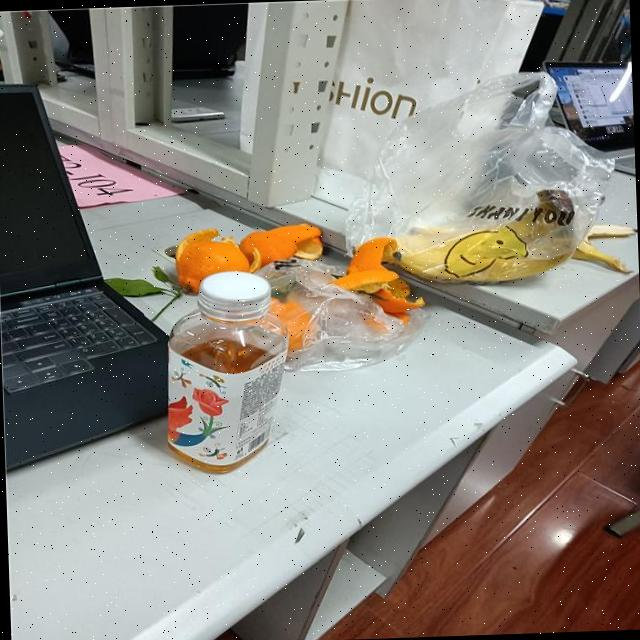orange-peel: (333, 239, 437, 350), (243, 208, 334, 276), (171, 214, 236, 292)
